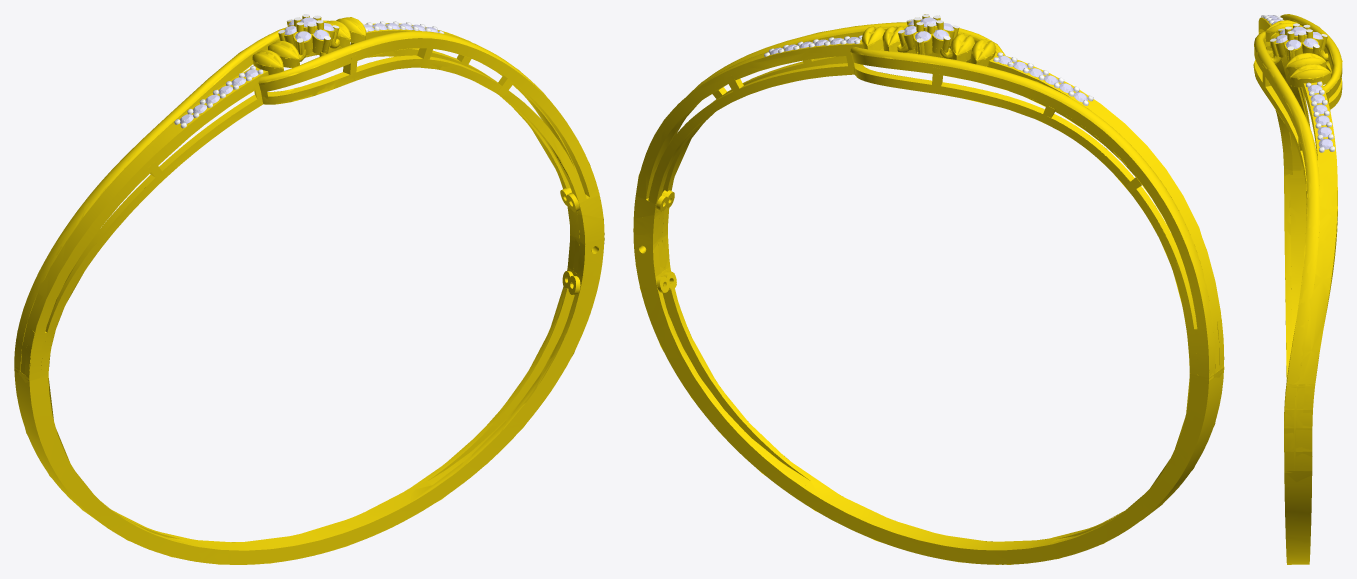
The model's file is DBR-D000568866.glb.
3 renders of one model, left to right at view 1: azimuth 30°, elevation 25°; view 2: azimuth 150°, elevation 25°; view 3: azimuth 270°, elevation 25°, orthographic. The views are drawn at different scales.
Parts seen in each view (by area): view 1: highPolyMesh, lowPolyMesh; view 2: highPolyMesh, lowPolyMesh; view 3: highPolyMesh, lowPolyMesh.
Part boxes in pixels (x1=…): highPolyMesh: x1=14, y1=14, x2=604, y2=564; lowPolyMesh: x1=14, y1=14, x2=604, y2=564; highPolyMesh: x1=633, y1=14, x2=1223, y2=564; lowPolyMesh: x1=633, y1=14, x2=1224, y2=564; highPolyMesh: x1=1254, y1=14, x2=1342, y2=564; lowPolyMesh: x1=1253, y1=14, x2=1342, y2=564.
Bounding box in the file's own units: 0.0613 × 0.054 × 0.00871.
